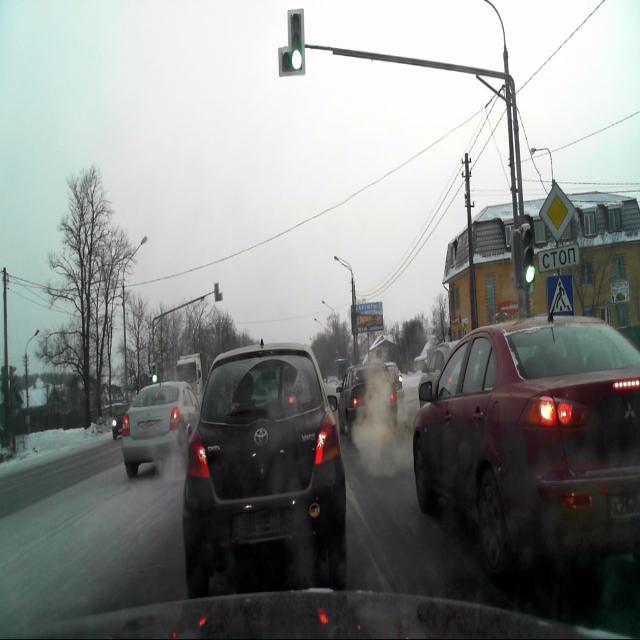road sign: (540, 182, 574, 241), (546, 274, 574, 315), (538, 244, 579, 271)
